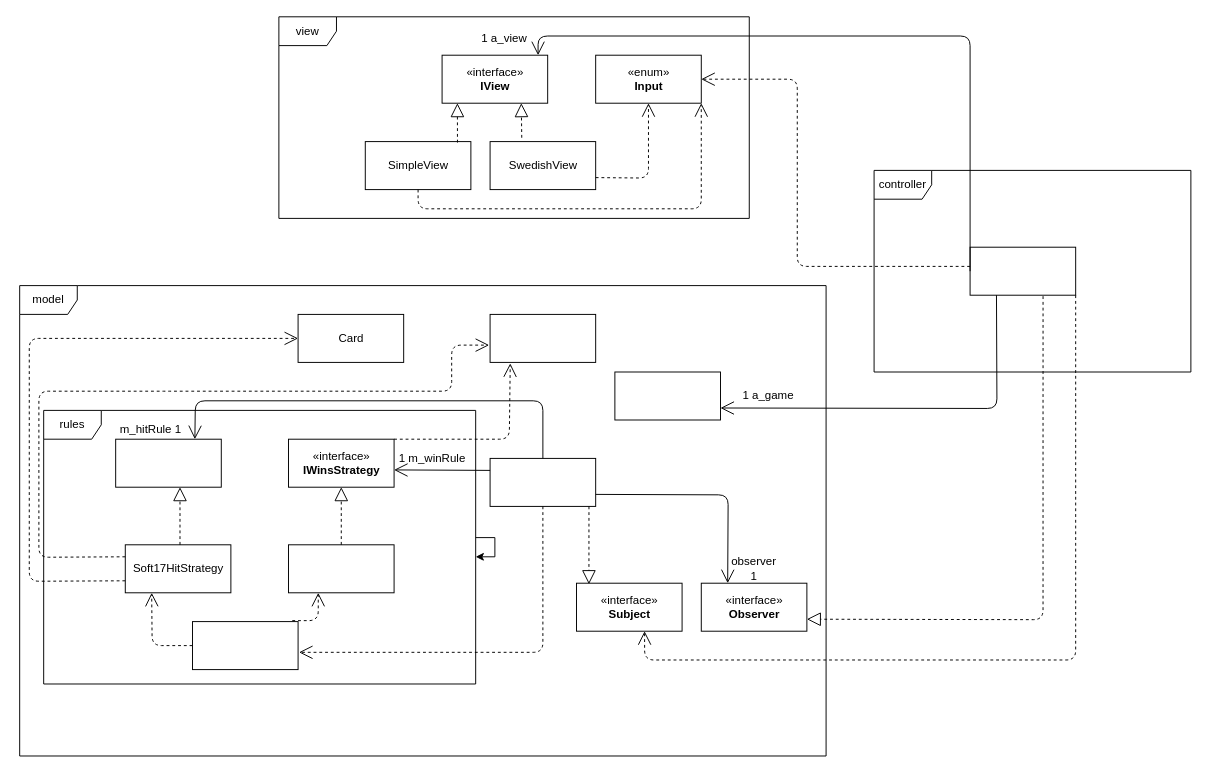
Some shapes in this 1208 by 773 pixel diagram are drawn without their labels. Each missing label, with the centre of its shape:
"Dealer" belongs at point (542, 481).
"DealerWins" belongs at point (341, 568).
"Games" belongs at point (667, 395).
"Player" belongs at point (542, 337).
"PlayGame" belongs at point (1022, 270).
"RulesFactory" belongs at point (245, 645).
"«interface» IHitStrategy" belongs at point (168, 462).
